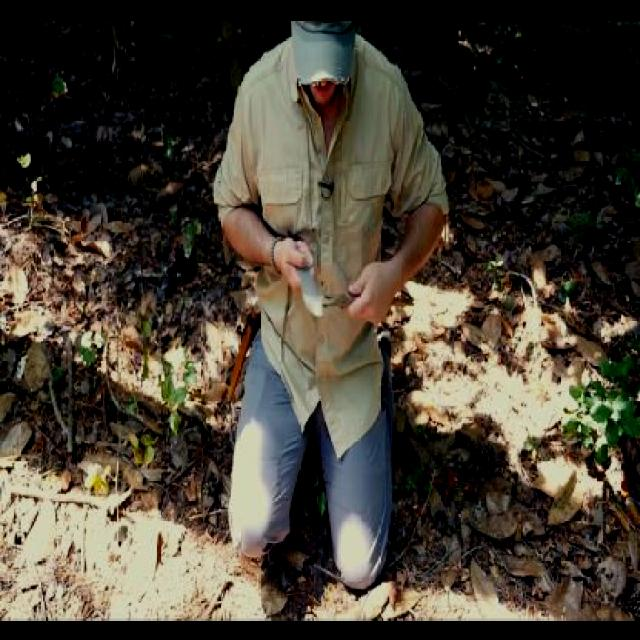knife: (278, 232, 331, 331)
